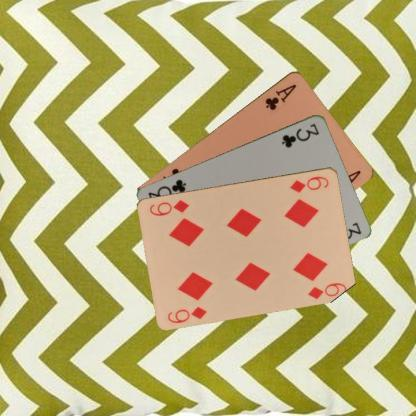3c: (278, 121, 321, 149)
6d: (287, 173, 331, 194), (165, 303, 209, 324)
Ac: (262, 81, 298, 111)
